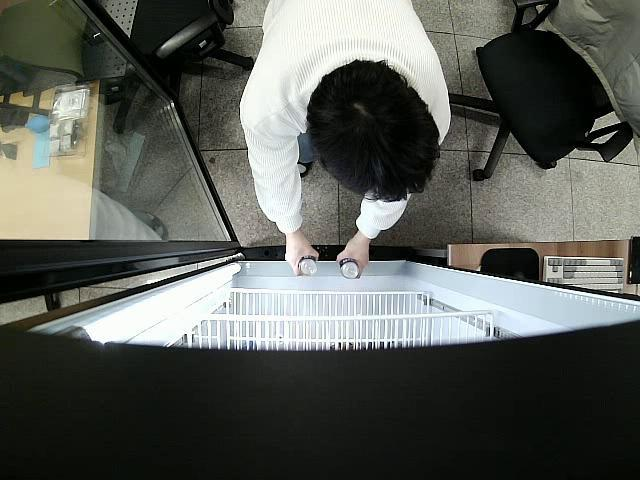16_hot6: (298, 254, 320, 276), (340, 257, 361, 280)
